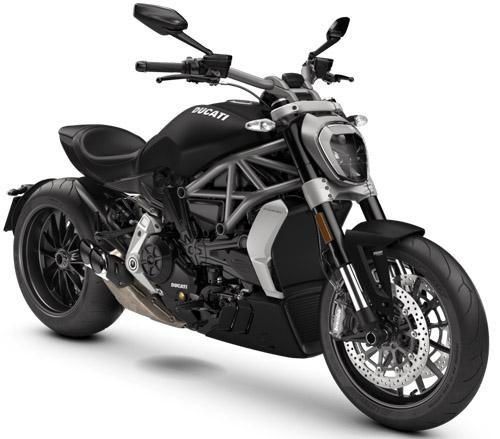motorbike: (3, 2, 490, 431)
